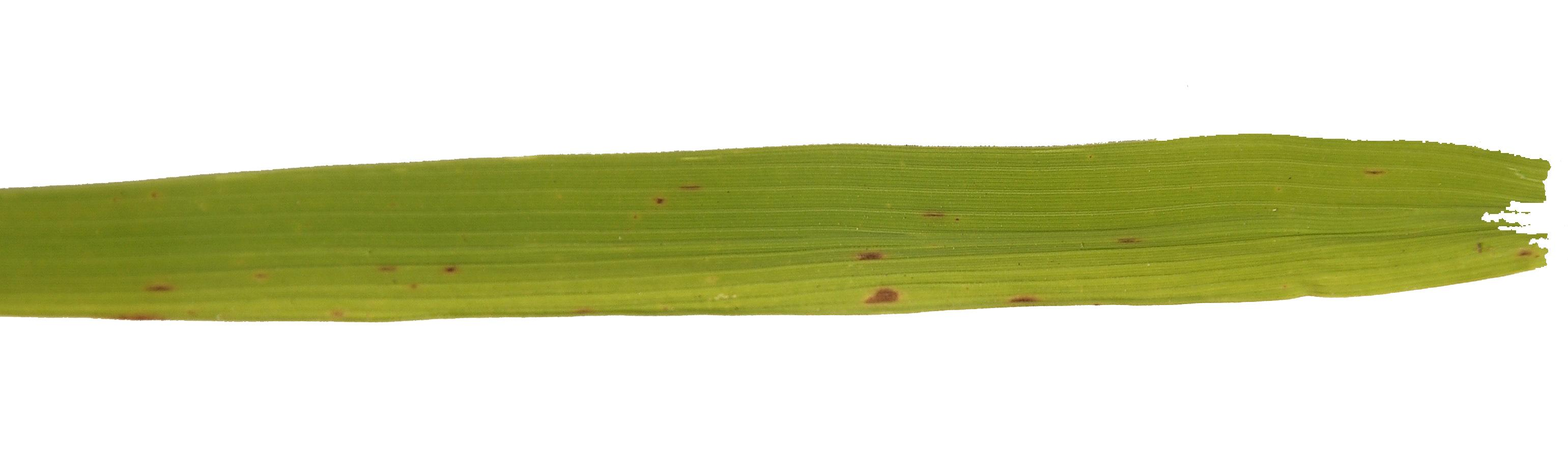Brown spot: (143, 271, 180, 305), (434, 252, 472, 283), (855, 244, 891, 271), (865, 286, 901, 312), (1106, 229, 1145, 251)
